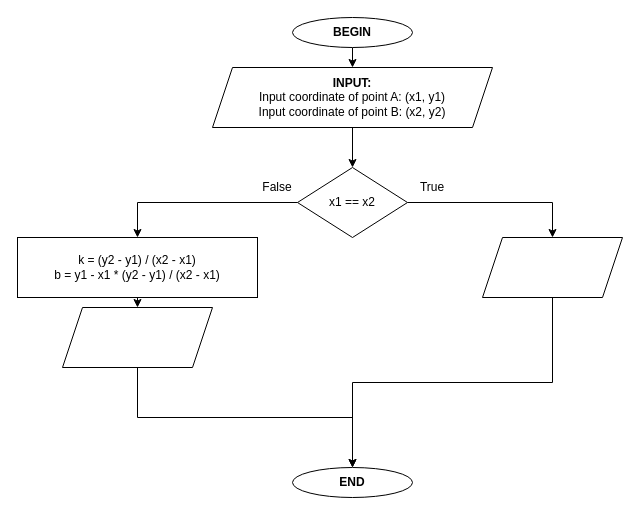
This 640x515 diagram has some shape labels left out. Here are the shapes that lost their labels. From the top down, the centre of each, then its label:
At (552,267): "OUTPUT: It is impossible".
At (137,337): "OUTPUT: y = kx + b".
